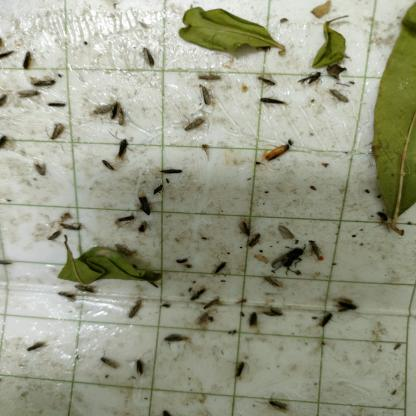prays_oleae: (97, 346, 129, 382), (264, 134, 294, 166), (139, 39, 161, 78), (42, 116, 66, 149), (22, 333, 47, 363), (162, 325, 188, 351), (259, 90, 286, 114), (259, 303, 286, 327), (263, 388, 290, 412), (124, 290, 144, 321), (209, 256, 230, 285), (300, 70, 321, 98), (8, 83, 40, 101), (272, 221, 298, 243), (137, 188, 154, 221), (182, 116, 206, 139), (30, 155, 50, 182), (306, 236, 323, 267), (35, 70, 57, 93), (335, 291, 357, 314), (59, 214, 81, 236), (196, 81, 212, 110), (316, 306, 332, 335), (0, 127, 12, 165), (58, 284, 73, 314), (246, 230, 262, 257), (23, 43, 35, 77), (158, 162, 182, 178), (203, 291, 223, 310), (233, 353, 245, 384), (46, 98, 69, 114), (100, 155, 112, 185), (46, 227, 64, 247), (119, 208, 136, 229), (135, 350, 146, 379), (77, 283, 99, 297), (104, 100, 118, 121), (247, 310, 257, 336), (236, 219, 248, 239), (136, 223, 150, 240), (118, 138, 127, 164), (191, 286, 203, 304), (152, 181, 166, 196), (116, 108, 125, 131), (0, 90, 7, 108)
